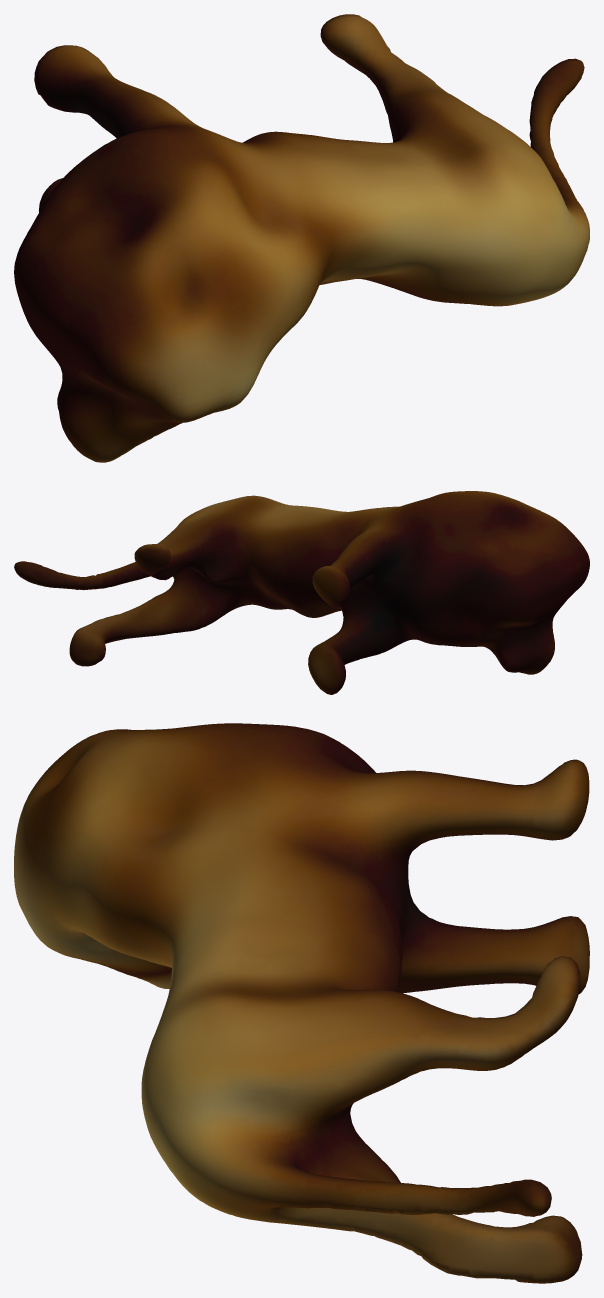
File: lion.glb
3 renders of one model, top to bottom at view 1: azimuth 30°, elevation 25°; view 2: azimuth 150°, elevation 25°; view 3: azimuth 270°, elevation 25°, orthographic. The views are drawn at different scales.
Size of the model in its own units: 0.9983 by 0.3636 by 0.6107.
